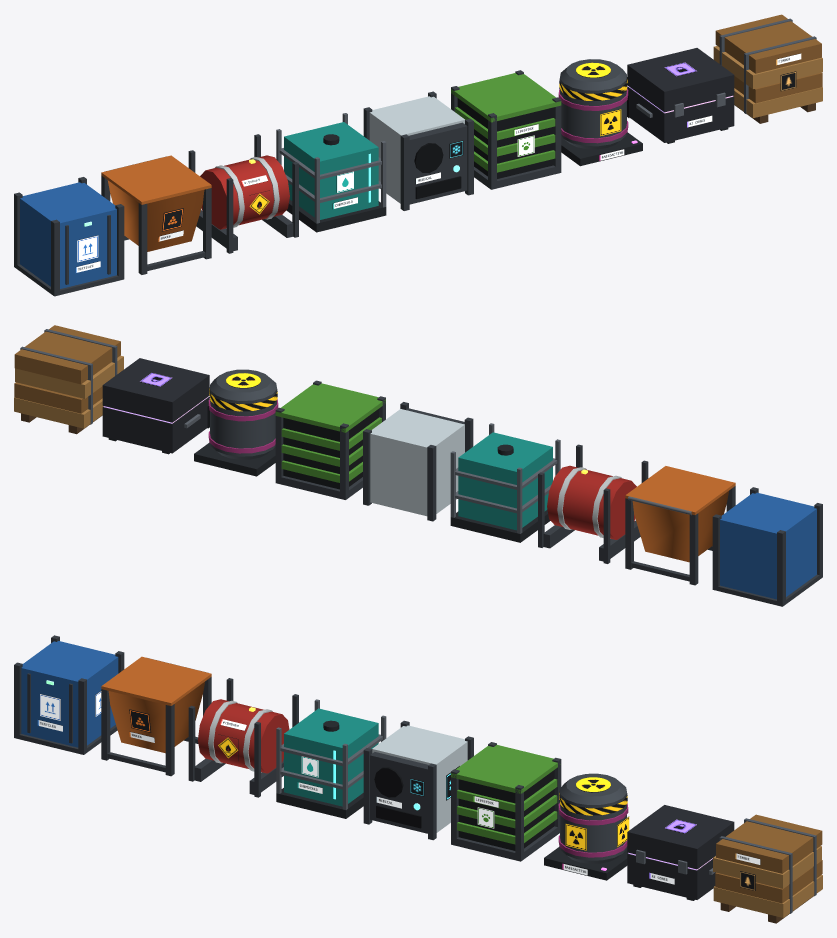
File: cargo_all_lineup.glb
The picture shows the model from 3 angles, top to bottom: view 1: azimuth 30°, elevation 25°; view 2: azimuth 150°, elevation 25°; view 3: azimuth 330°, elevation 25°; orthographic projection.
Parts seen in each view (by area): view 1: body (×2), tank (×2), shell_lid, layer_4, post_3 (×5), roof, lid, hopper, shell_lower, cooling_unit, stall, post_4 (×4) (+16 smaller); view 2: body (×2), tank (×2), shell_lid, layer_4, hopper, post_1 (×5), roof, shell_lower, lid, drum, stall, post_2 (×4) (+13 smaller); view 3: body (×2), tank (×2), shell_lid, layer_4, roof, lid, hopper, post_4 (×4), stall, cooling_unit, post_3 (×4), shell_lower (+16 smaller).
Boxes of the visible parts, box(x1,y1,x2,y2) form: body (×2): box(20, 96, 464, 288); tank (×2): box(200, 122, 378, 229); shell_lid: box(627, 48, 734, 112); layer_4: box(715, 14, 821, 73); post_3 (×5): box(51, 113, 496, 296); roof: box(451, 73, 561, 122); lid: box(101, 155, 211, 204); hopper: box(107, 180, 204, 251); shell_lower: box(627, 86, 734, 142); cooling_unit: box(408, 122, 467, 204); stall: box(457, 98, 553, 178); post_4 (×4): box(115, 97, 561, 280); body (×2): box(370, 409, 816, 599); tank (×2): box(458, 432, 636, 539); shell_lid: box(102, 358, 209, 422); layer_4: box(14, 325, 120, 384); hopper: box(632, 490, 729, 562); post_1 (×5): box(340, 423, 785, 606); roof: box(275, 383, 385, 432); shell_lower: box(102, 397, 209, 453); lid: box(625, 466, 735, 514); drum: box(210, 387, 276, 456); stall: box(283, 408, 379, 489); post_2 (×4): box(275, 407, 721, 590); body (×2): box(21, 641, 467, 832); tank (×2): box(198, 699, 378, 806); shell_lid: box(627, 805, 734, 869); layer_4: box(716, 814, 822, 873); roof: box(451, 745, 560, 793); lid: box(101, 656, 211, 705); hopper: box(108, 681, 205, 753); post_4 (×4): box(78, 678, 523, 860); stall: box(458, 770, 554, 850); cooling_unit: box(370, 752, 428, 833); post_3 (×4): box(14, 662, 372, 824); shell_lower: box(627, 853, 715, 899).
Size of the model in its own units: 11.01 by 1.03 by 1.04.
Materials: 47 (20 with a texture image).
